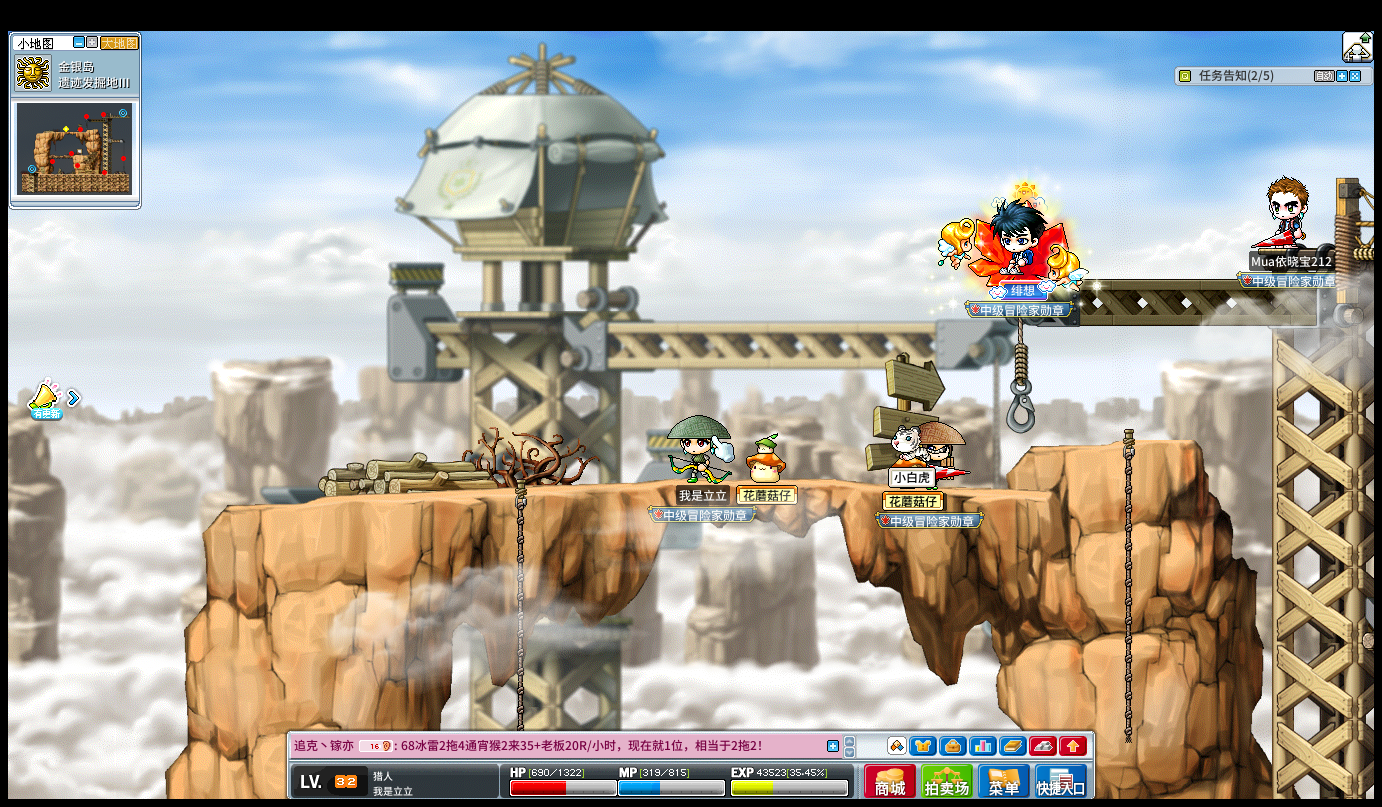floor: (216, 476, 1092, 499), (1028, 434, 1197, 448), (1031, 438, 1200, 452)
rope: (1119, 427, 1135, 745), (514, 478, 527, 676), (1013, 320, 1028, 433)
